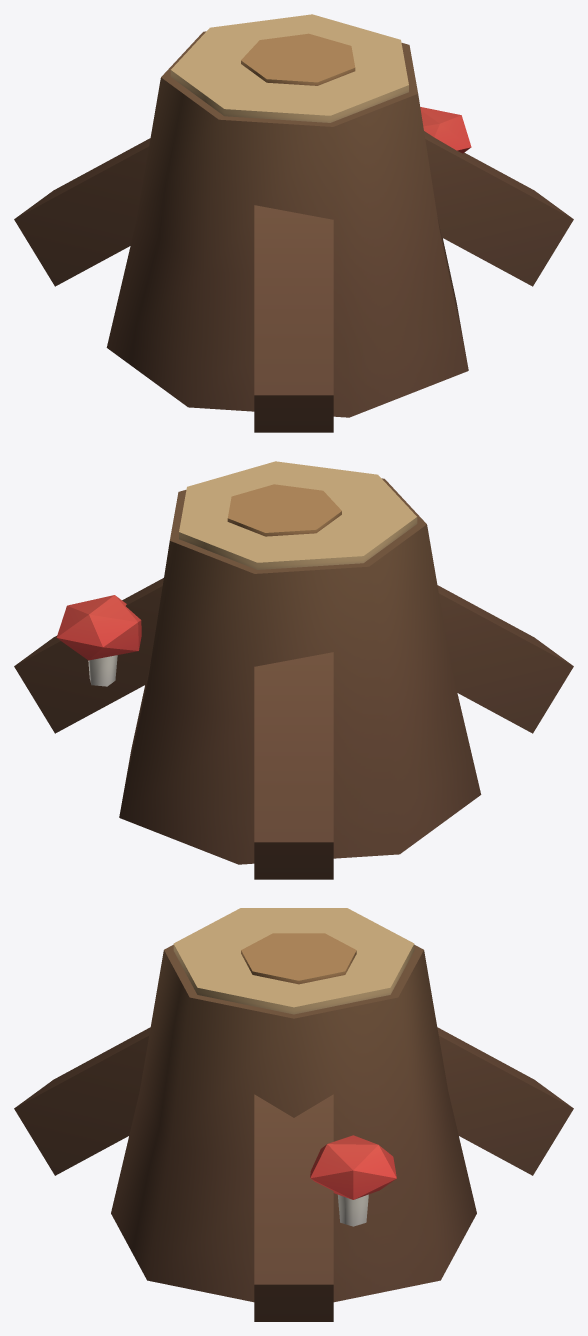
The model's file is tree_stump.glb.
3 renders of one model, top to bottom at view 1: azimuth 30°, elevation 25°; view 2: azimuth 150°, elevation 25°; view 3: azimuth 270°, elevation 25°, orthographic.
Visible parts, largest first — view 1: tree_stump; view 2: tree_stump; view 3: tree_stump.
Boxes of the visible parts, x1,y1,x2,y2 form: tree_stump: (14,14,573,432); tree_stump: (14,461,573,879); tree_stump: (14,908,573,1321).
Bounding box in the file's own units: 4.91 × 3.12 × 5.67.
1 material, 1 textured.
